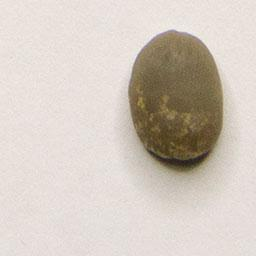premium: (123, 26, 229, 167)
